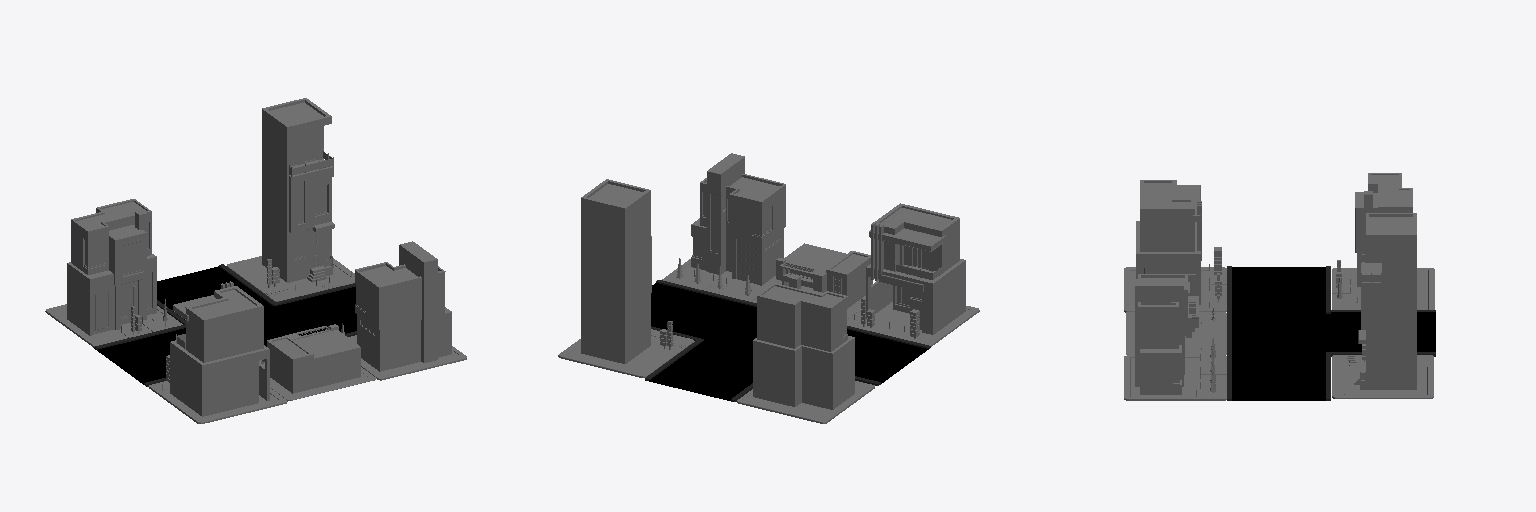
Rendered from road13.obj.
The picture shows the model from 3 angles: view 1: azimuth 30°, elevation 25°; view 2: azimuth 150°, elevation 25°; view 3: azimuth 270°, elevation 25°; orthographic projection.
Visible parts, largest first — view 1: T_Intersection, Box437_Mesh_164, Box345_Mesh_313, Box335_Mesh_309, Box697_Mesh_002, Box524_Mesh_122, Line017_Mesh_194, Box523_Mesh_121, Box522_Mesh_120, Object093_Mesh_304, Object141_Mesh_171, Rectangle007_Mesh_175 (+17 smaller); view 2: T_Intersection, Box437_Mesh_164, Line017_Mesh_194, Box422_Mesh_187, Box345_Mesh_313, Box523_Mesh_121, Box524_Mesh_122, Box335_Mesh_309, Rectangle007_Mesh_175, Object100_Mesh_311, Object122_Mesh_199, Object137_Mesh_170 (+17 smaller); view 3: T_Intersection, Box437_Mesh_164, Box335_Mesh_309, Box523_Mesh_121, Box522_Mesh_120, Object276_Mesh_119, Box345_Mesh_313, Rectangle007_Mesh_175, Line022_Mesh_129, Object122_Mesh_199, Object100_Mesh_311, Line020_Mesh_128 (+8 smaller).
Boxes of the visible parts, x1,y1,x2,y2 form: T_Intersection: [94, 264, 356, 386]; Box437_Mesh_164: [262, 110, 331, 282]; Box345_Mesh_313: [170, 340, 269, 416]; Box335_Mesh_309: [186, 292, 263, 362]; Box697_Mesh_002: [267, 341, 360, 393]; Box524_Mesh_122: [355, 271, 444, 329]; Line017_Mesh_194: [67, 254, 156, 335]; Box523_Mesh_121: [399, 241, 437, 362]; Box522_Mesh_120: [380, 307, 451, 371]; Object093_Mesh_304: [214, 361, 258, 413]; Object141_Mesh_171: [290, 128, 332, 266]; Rectangle007_Mesh_175: [227, 256, 354, 301]; T_Intersection: [645, 280, 930, 401]; Box437_Mesh_164: [581, 191, 650, 363]; Line017_Mesh_194: [753, 336, 854, 409]; Box422_Mesh_187: [757, 297, 847, 351]; Box345_Mesh_313: [866, 259, 965, 334]; Box523_Mesh_121: [707, 153, 744, 274]; Box524_Mesh_122: [730, 185, 785, 244]; Box335_Mesh_309: [884, 220, 959, 273]; Rectangle007_Mesh_175: [558, 329, 694, 377]; Object100_Mesh_311: [874, 203, 959, 231]; Object122_Mesh_199: [757, 283, 847, 308]; Object137_Mesh_170: [581, 179, 650, 208]; T_Intersection: [1227, 266, 1435, 400]; Box437_Mesh_164: [1366, 235, 1416, 389]; Box335_Mesh_309: [1140, 210, 1194, 251]; Box523_Mesh_121: [1135, 279, 1183, 386]; Box522_Mesh_120: [1140, 345, 1181, 394]; Object276_Mesh_119: [1139, 307, 1178, 348]; Box345_Mesh_313: [1136, 221, 1200, 304]; Rectangle007_Mesh_175: [1332, 355, 1433, 398]; Line022_Mesh_129: [1124, 355, 1226, 400]; Object122_Mesh_199: [1355, 173, 1412, 207]; Object100_Mesh_311: [1140, 180, 1194, 209]; Line020_Mesh_128: [1131, 358, 1226, 396].
Bounding box in the file's own units: 20.13 × 11.22 × 20.01.